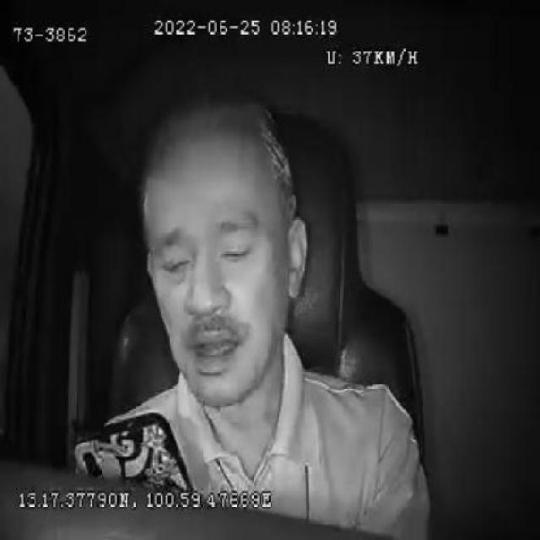phone: (74, 410, 196, 491)
